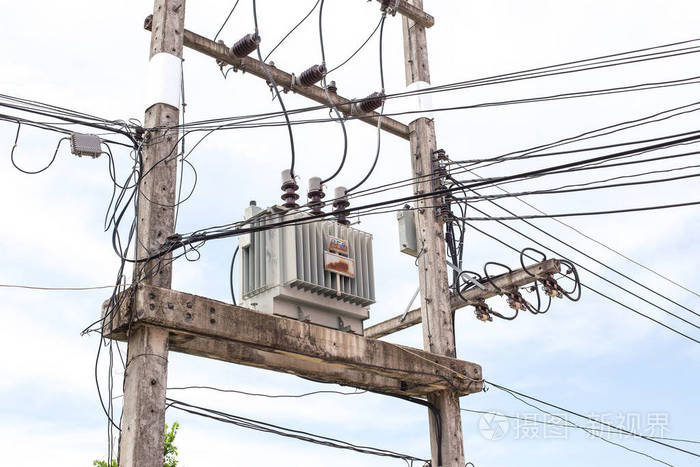insulator: (330, 199, 354, 226), (280, 182, 300, 210), (306, 191, 326, 218)
